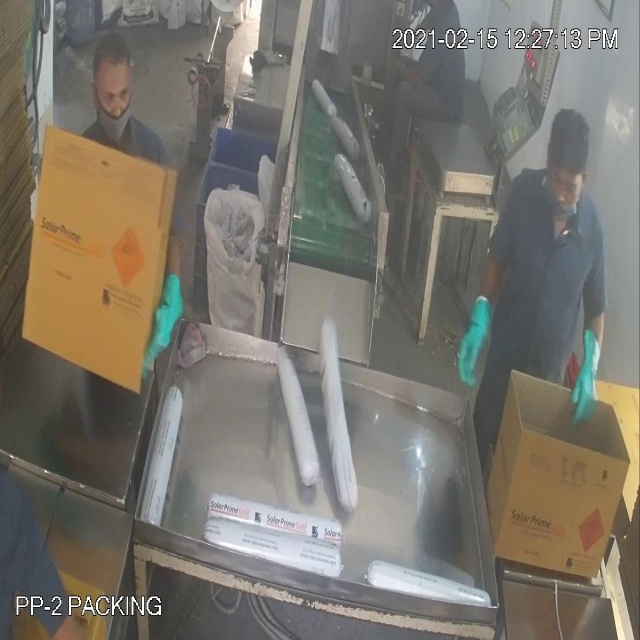Guantes: (140, 265, 190, 369), (452, 284, 498, 396), (568, 321, 606, 444)
